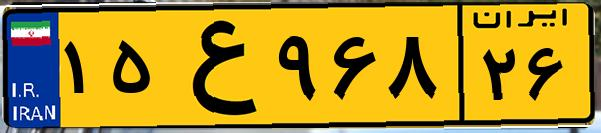1: (57, 26, 110, 100)
2: (475, 38, 525, 113)
5: (110, 28, 158, 98)
6: (330, 28, 385, 110), (525, 38, 570, 115)
8: (385, 28, 445, 110)
9: (270, 28, 330, 110)
ع: (158, 12, 270, 120)
